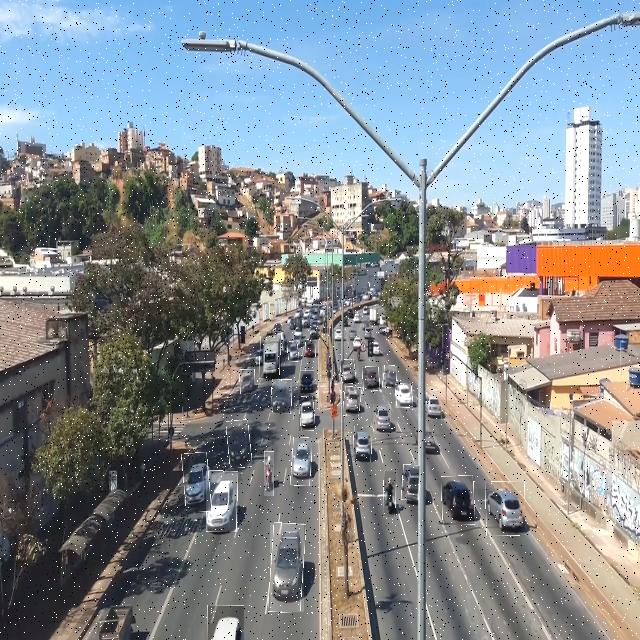Car: (270, 523, 304, 612), (486, 482, 525, 536), (206, 471, 238, 532), (441, 476, 475, 525), (183, 453, 210, 512), (207, 605, 244, 640), (227, 420, 251, 467), (291, 438, 312, 486), (272, 379, 292, 414), (401, 465, 420, 500), (354, 426, 372, 462), (299, 396, 315, 431), (373, 404, 391, 434), (343, 387, 361, 416), (426, 392, 442, 420), (395, 384, 413, 408), (363, 367, 379, 391), (240, 369, 255, 394), (341, 360, 356, 384), (382, 366, 397, 388), (300, 370, 314, 393), (288, 341, 299, 362), (305, 340, 316, 358)
Motorcycle: (384, 471, 396, 517), (264, 451, 274, 496)
Truck: (260, 331, 281, 379)
